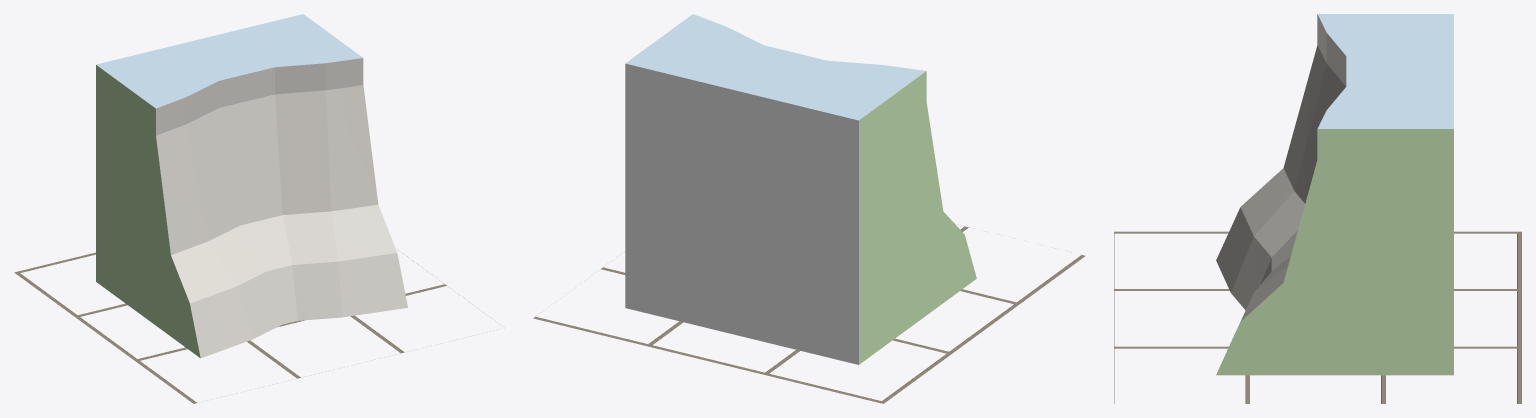
File: Wall_Straight_Deformed_Concave_2x2_Base.glb
3 renders of one model, left to right at view 1: azimuth 30°, elevation 25°; view 2: azimuth 150°, elevation 25°; view 3: azimuth 270°, elevation 25°, orthographic. The views are drawn at different scales.
Parts seen in each view (by area): view 1: Wall_Straight_Deformed_Concave_2x2_Base, Floor; view 2: Wall_Straight_Deformed_Concave_2x2_Base, Floor; view 3: Wall_Straight_Deformed_Concave_2x2_Base, Floor.
Boxes of the visible parts, box(x1,y1,x2,y2) form: Wall_Straight_Deformed_Concave_2x2_Base: box(96, 14, 407, 358); Floor: box(14, 250, 495, 403); Wall_Straight_Deformed_Concave_2x2_Base: box(625, 14, 976, 364); Floor: box(533, 226, 1085, 403); Wall_Straight_Deformed_Concave_2x2_Base: box(1216, 14, 1453, 375); Floor: box(1114, 231, 1521, 403).
Bounding box in the file's own units: 300 × 200 × 300.
Materials: 5 (1 with a texture image).
